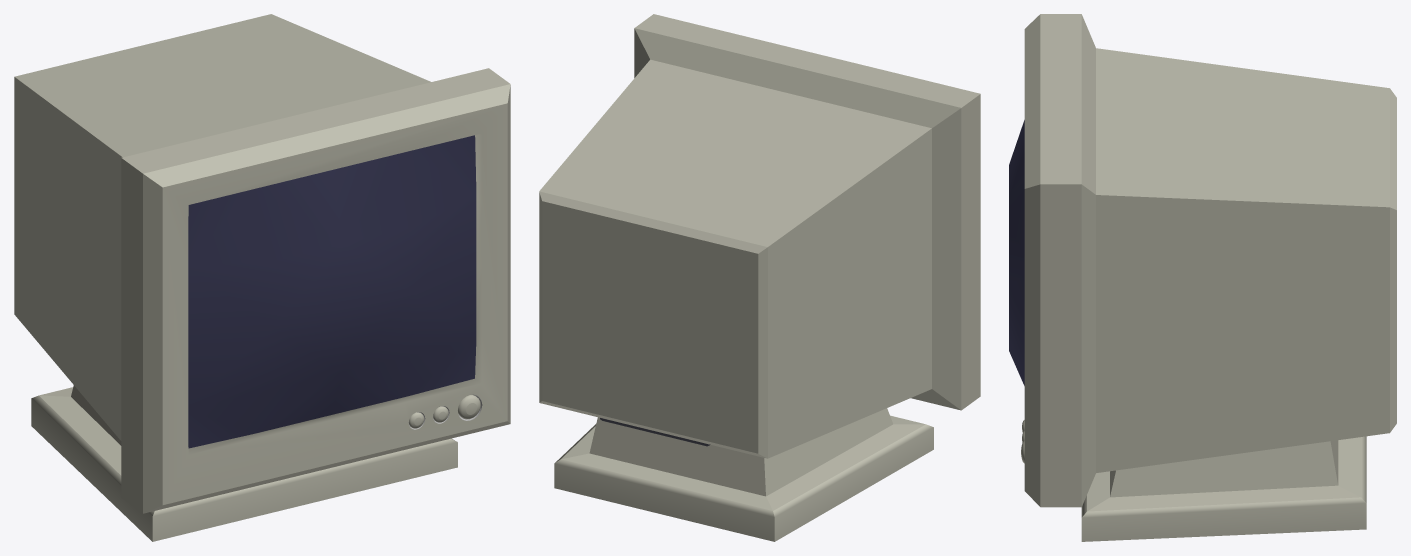
Rendered from Monitor.fbx.
3 renders of one model, left to right at view 1: azimuth 30°, elevation 25°; view 2: azimuth 150°, elevation 25°; view 3: azimuth 270°, elevation 25°, orthographic. The views are drawn at different scales.
Visible parts, largest first — view 1: pCylinder7; view 2: pCylinder7; view 3: pCylinder7.
Boxes of the visible parts, x1,y1,x2,y2 form: pCylinder7: (14,14,510,541); pCylinder7: (539,14,980,541); pCylinder7: (1009,14,1396,541).
Size of the model in its own units: 2.09 by 2.13 by 2.01.
